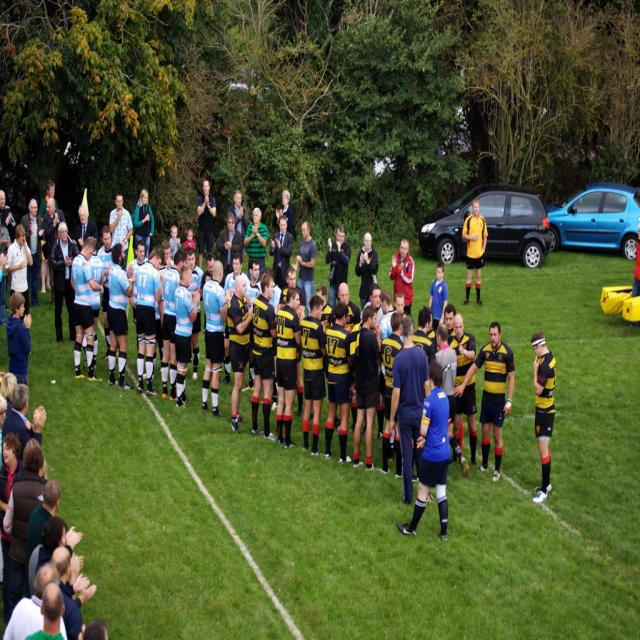car: (433, 185, 564, 272)
